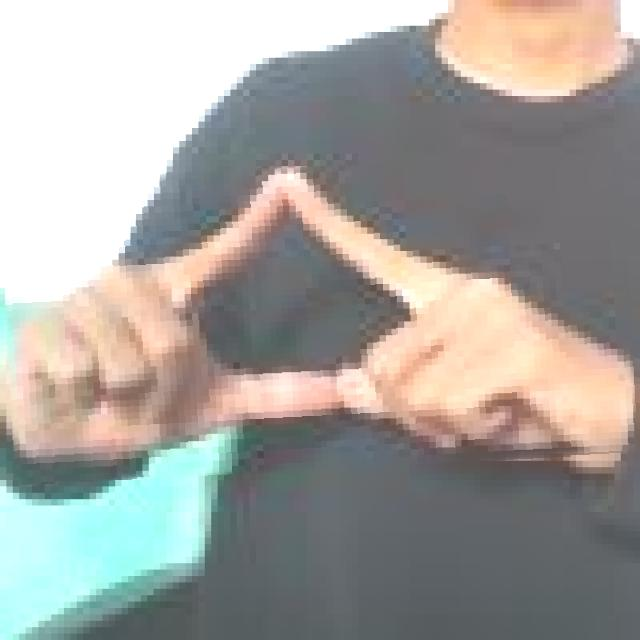A: (12, 168, 636, 456)
